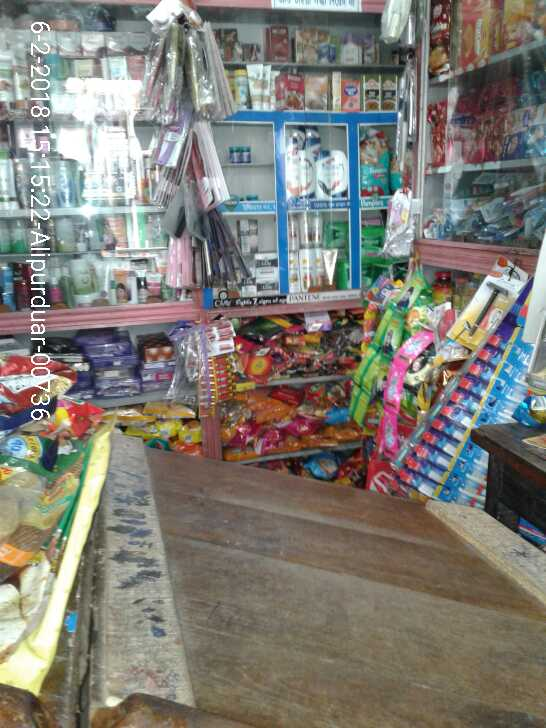vicks: (228, 143, 253, 168)
